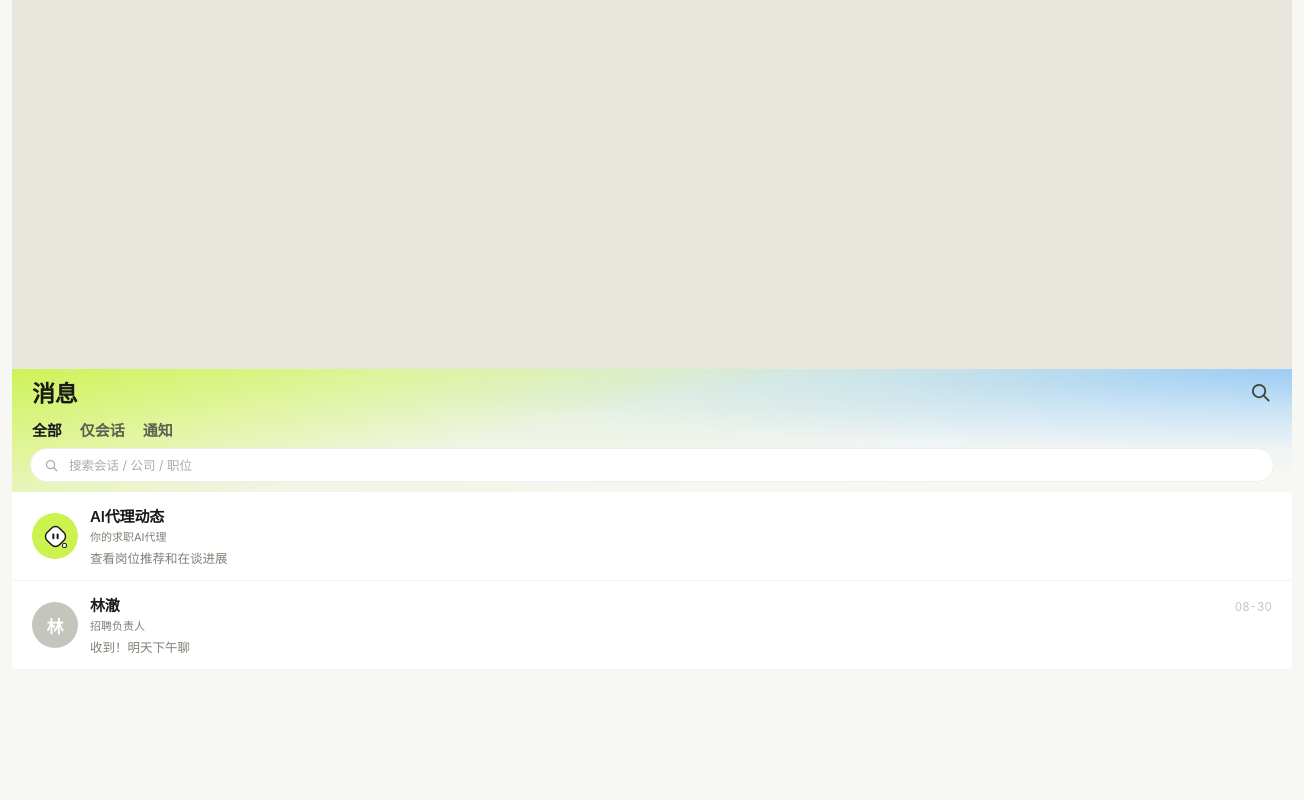
Test case: Backend会话列表 › 搜索按 trim 包含匹配 AI 行三字段；命中时全部不出无匹配，仅会话真人零命中才出
(page scrolled)
Expected: the text "林澈" is shown, [90, 596, 120, 615]
# 前后空格走 trim 后仍命中副标题
Step 1. Type " 求职AI代理 " into the field with placeholder "搜索会话 / 公司 / 职位" → point(664, 465), box [67, 449, 1260, 481]
(page scrolled)
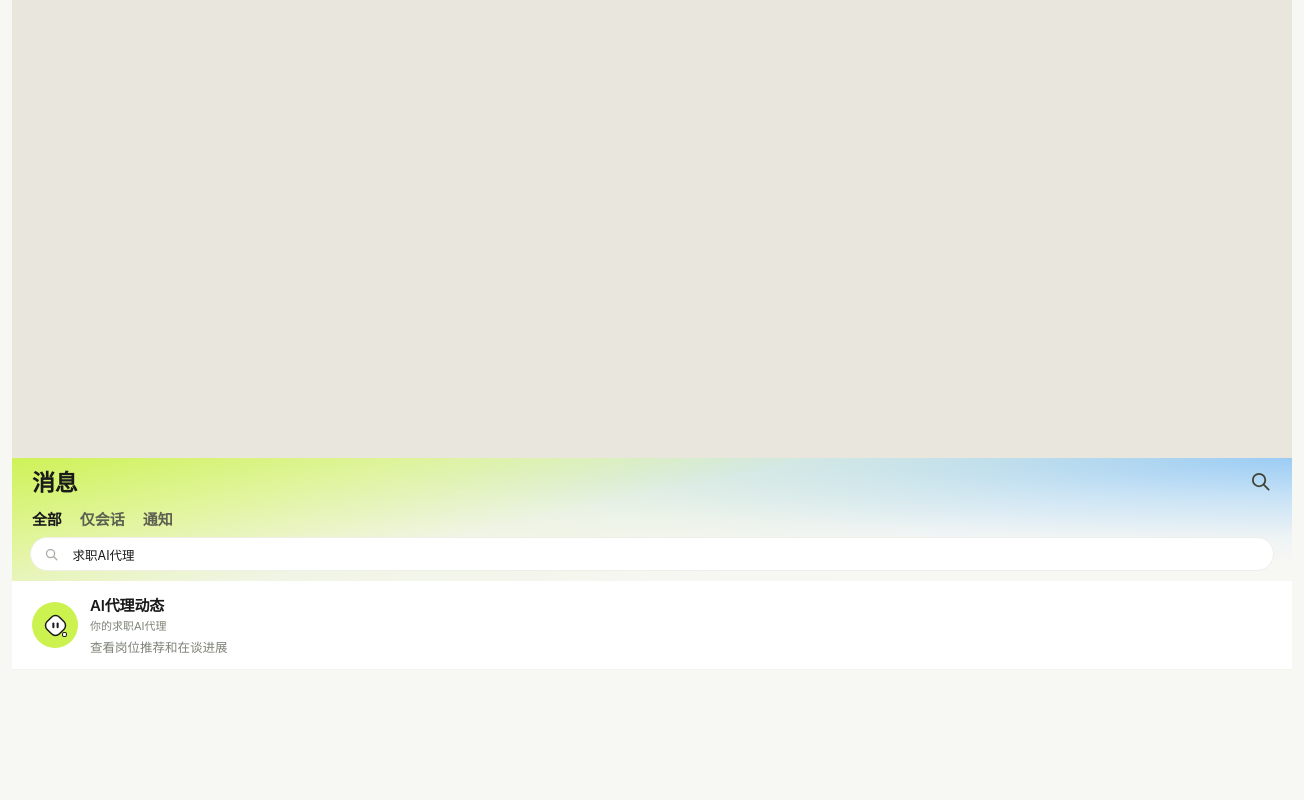
Expected: the text "AI代理动态" is shown, [90, 596, 164, 615]
Now the button "林澈" is gone
Step 2. Click the button "仅会话" → point(102, 518), box [80, 508, 125, 529]
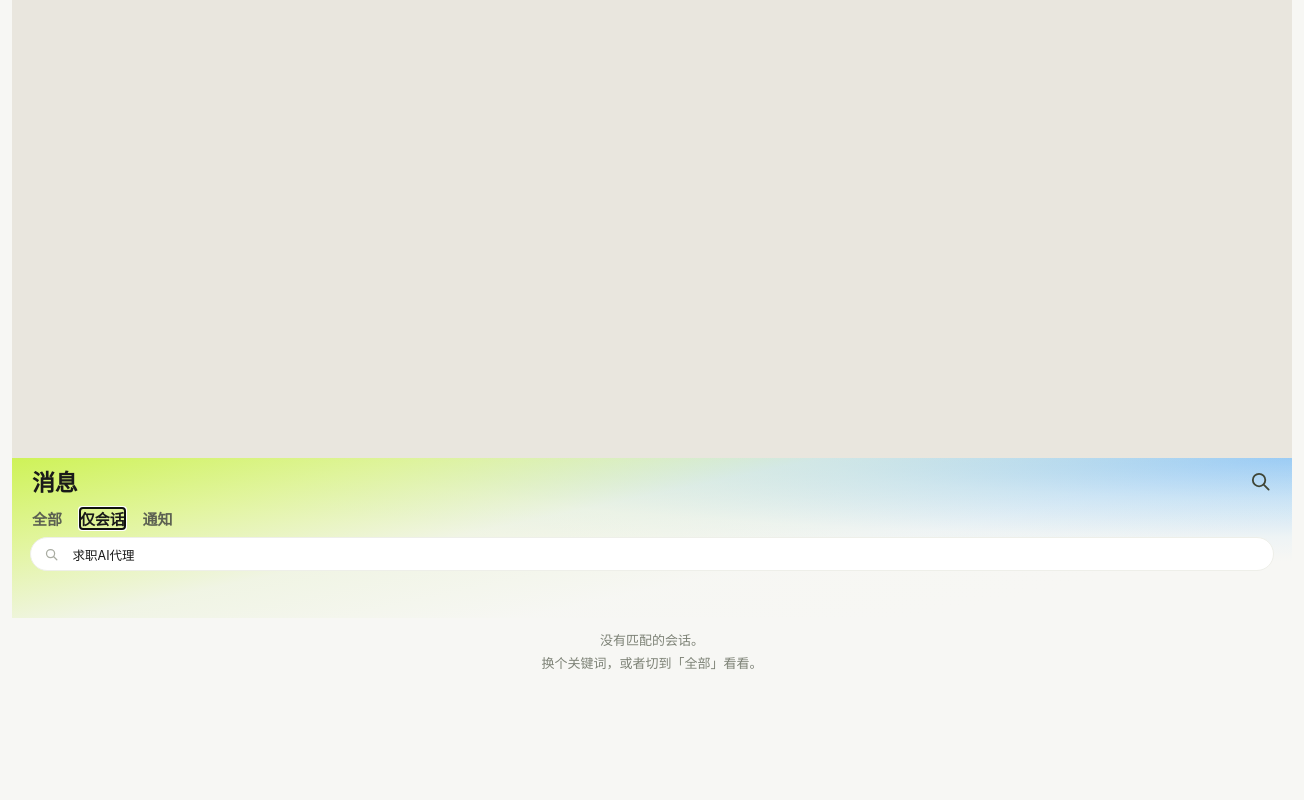
Now the button "AI代理动态" is gone
